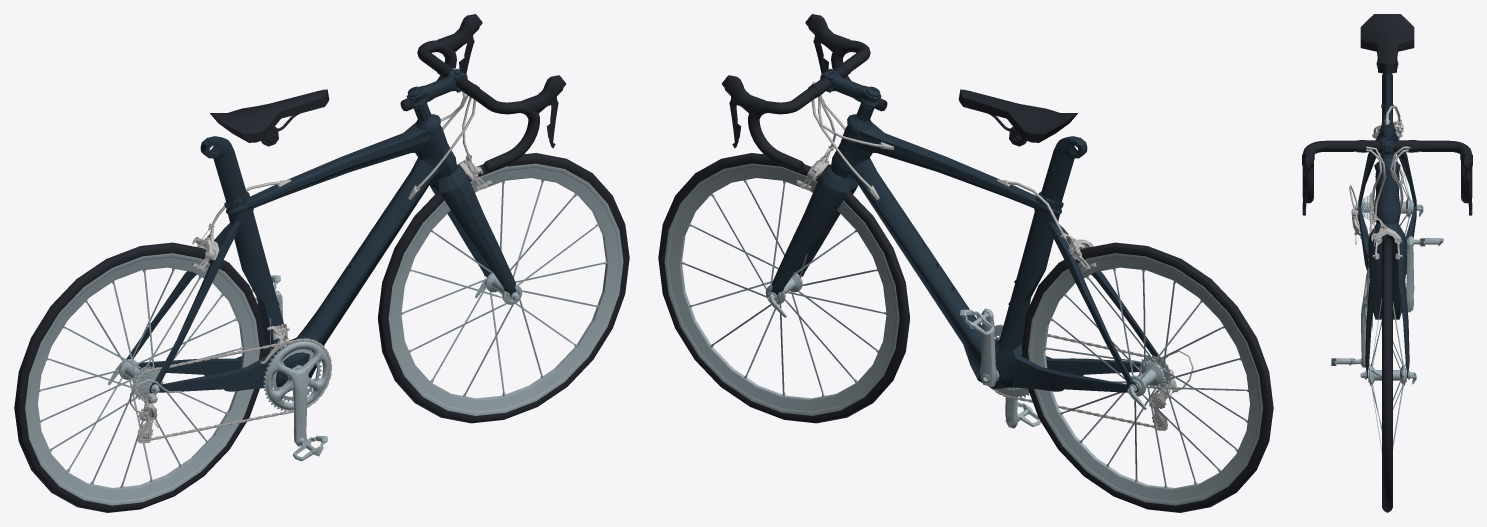
File: bike_road.glb
3 views of the same model, side by side, from view 1: azimuth 30°, elevation 25°; view 2: azimuth 150°, elevation 25°; view 3: azimuth 270°, elevation 25° (orthographic). The views are drawn at different scales.
Visible parts, largest first — view 1: MainFrame, WheelRimInner2, WheelRimInner2.001, Tire.001, Tire, FrontFork, polySurface9, polySurface9.001, polySurface3, Seat, HandleBar1, SeatPost (+3 smaller); view 2: MainFrame, WheelRimInner2, WheelRimInner2.001, Tire.001, Tire, FrontFork, polySurface9, polySurface9.001, Seat, HandleBar1, SeatPost, Stem (+3 smaller); view 3: MainFrame, Tire, Seat, FrontFork, HandleBar1, pCube14, polySurface3, Stem, pCylinder20, HandleBar, HandleBar3, SeatPost (+5 smaller).
Part boxes in pixels (<box>): MainFrame: <box>124,114,457,393</box>; WheelRimInner2: <box>392,167,619,411</box>; WheelRimInner2.001: <box>29,257,255,501</box>; Tire.001: <box>14,242,265,512</box>; Tire: <box>378,153,629,423</box>; FrontFork: <box>429,164,516,296</box>; polySurface9: <box>388,163,623,415</box>; polySurface9.001: <box>25,253,259,505</box>; polySurface3: <box>264,340,329,446</box>; Seat: <box>210,89,329,142</box>; HandleBar1: <box>401,40,539,172</box>; SeatPost: <box>200,136,246,203</box>; MainFrame: <box>830,114,1162,392</box>; WheelRimInner2: <box>668,167,895,411</box>; WheelRimInner2.001: <box>1032,257,1258,501</box>; Tire.001: <box>1022,242,1273,512</box>; Tire: <box>658,153,909,423</box>; FrontFork: <box>771,164,858,296</box>; polySurface9: <box>664,163,899,415</box>; polySurface9.001: <box>1028,253,1262,505</box>; Seat: <box>958,89,1077,142</box>; HandleBar1: <box>748,40,886,172</box>; SeatPost: <box>1041,136,1087,203</box>; Stem: <box>820,69,881,108</box>; MainFrame: <box>1358,110,1416,319</box>; Tire: <box>1382,238,1392,512</box>; Seat: <box>1360,14,1414,74</box>; FrontFork: <box>1365,223,1409,378</box>; HandleBar1: <box>1302,140,1472,203</box>; pCube14: <box>1406,236,1414,312</box>; polySurface3: <box>1361,268,1369,367</box>; Stem: <box>1379,128,1395,155</box>; pCylinder20: <box>1368,365,1406,385</box>; HandleBar: <box>1366,140,1408,152</box>; HandleBar3: <box>1356,140,1418,152</box>; SeatPost: <box>1383,74,1391,105</box>.
Bounding box in the file's own units: 1.57 × 0.9157 × 0.3984.
